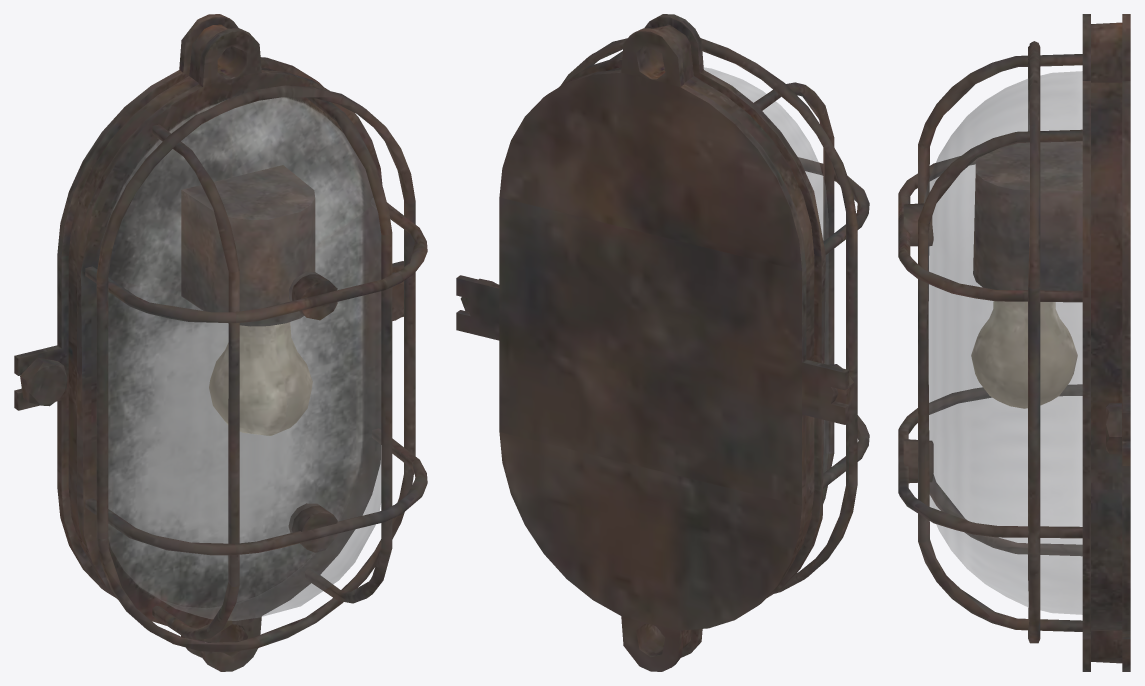
File: industrial_wall_lamp.glb
3 renders of one model, left to right at view 1: azimuth 30°, elevation 25°; view 2: azimuth 150°, elevation 25°; view 3: azimuth 270°, elevation 25°, orthographic.
Visible parts, largest first — view 1: industrial_wall_lamp; view 2: industrial_wall_lamp; view 3: industrial_wall_lamp.
Part boxes in pixels (bbox=[...]): industrial_wall_lamp: bbox=[14, 14, 427, 671]; industrial_wall_lamp: bbox=[456, 14, 869, 671]; industrial_wall_lamp: bbox=[898, 14, 1130, 671].
Bounding box in the file's own units: 0.2735 × 0.4299 × 0.139.
2 materials, 2 textured.
